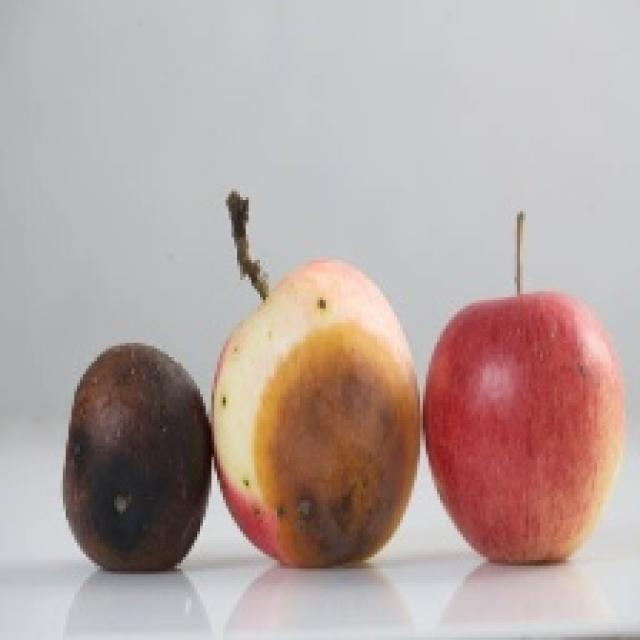rotten_apple: (214, 264, 423, 565), (66, 346, 211, 569)
